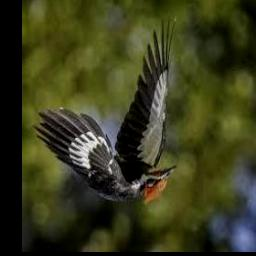Woodpecker: (33, 17, 176, 206)
